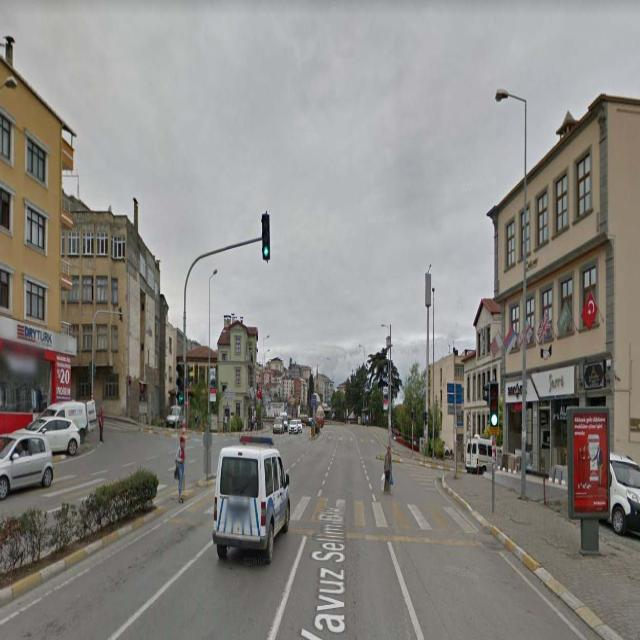yesil: (262, 214, 270, 258), (490, 384, 498, 426), (177, 363, 184, 405)
